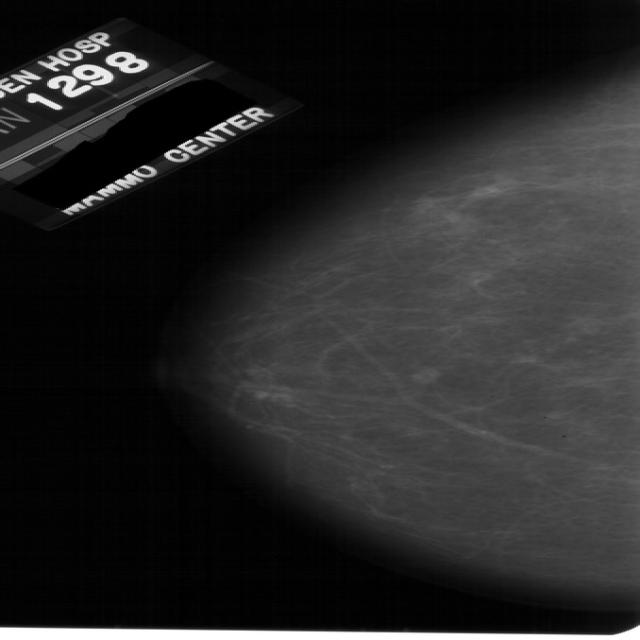tumour: (408, 365, 438, 383)
